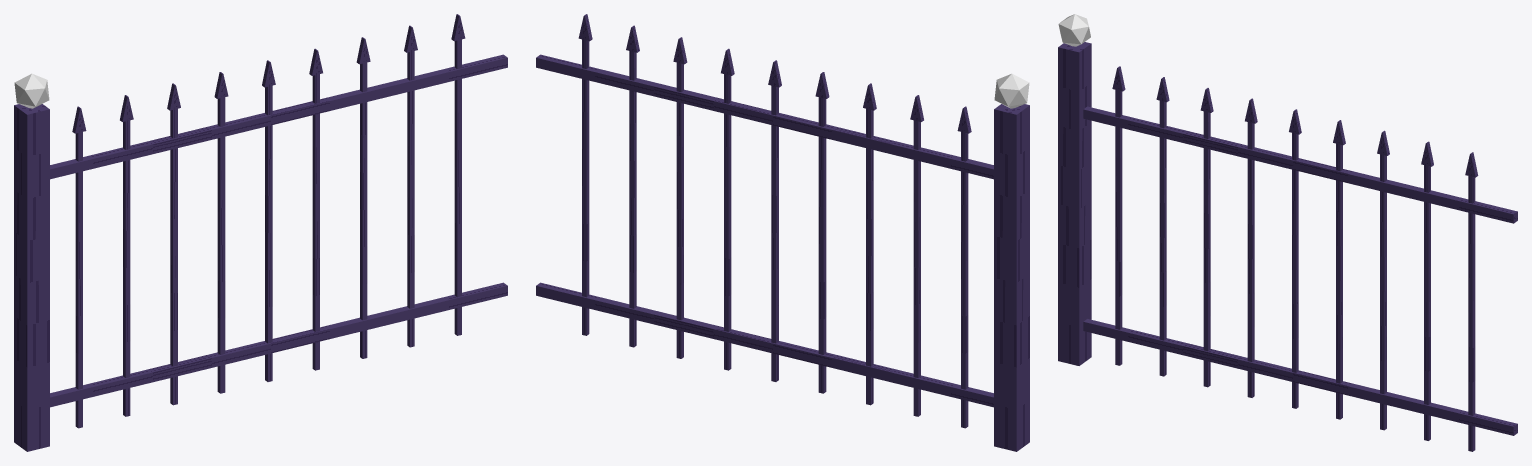
File: Iron Fence.fbx
3 renders of one model, left to right at view 1: azimuth 30°, elevation 25°; view 2: azimuth 150°, elevation 25°; view 3: azimuth 330°, elevation 25°, orthographic. The views are drawn at different scales.
Visible parts, largest first — view 1: Iron Fence post, Iron Fence rail 0.2, Iron Fence rail 1.35, Iron Fence bar 3, Iron Fence bar 6, Iron Fence bar 1, Iron Fence bar 4, Iron Fence bar 7, Iron Fence bar 2, Iron Fence bar 0, Iron Fence bar 5, Iron Fence bar 8 (+1 smaller); view 2: Iron Fence post, Iron Fence rail 0.2, Iron Fence rail 1.35, Iron Fence bar 3, Iron Fence bar 7, Iron Fence bar 2, Iron Fence bar 1, Iron Fence bar 0, Iron Fence bar 6, Iron Fence bar 8, Iron Fence bar 4, Iron Fence bar 5 (+1 smaller); view 3: Iron Fence post, Iron Fence rail 0.2, Iron Fence rail 1.35, Iron Fence bar 2, Iron Fence bar 0, Iron Fence bar 3, Iron Fence bar 8, Iron Fence bar 1, Iron Fence bar 7, Iron Fence bar 6, Iron Fence bar 4, Iron Fence bar 5 (+1 smaller).
Boxes of the visible parts, x1,y1,x2,y2 form: Iron Fence post: (14,104,49,451); Iron Fence rail 0.2: (50,282,507,407); Iron Fence rail 1.35: (50,54,507,179); Iron Fence bar 3: (217,95,225,393); Iron Fence bar 6: (360,60,367,358); Iron Fence bar 1: (123,118,130,416); Iron Fence bar 4: (265,83,272,381); Iron Fence bar 7: (407,49,414,347); Iron Fence bar 2: (170,107,177,405); Iron Fence bar 0: (75,130,82,428); Iron Fence bar 5: (312,72,319,370); Iron Fence bar 8: (454,37,461,335); Iron Fence post: (994,104,1029,451); Iron Fence rail 0.2: (536,282,993,407); Iron Fence rail 1.35: (536,54,993,179); Iron Fence bar 3: (818,97,826,393); Iron Fence bar 7: (629,49,636,347); Iron Fence bar 2: (866,107,873,405); Iron Fence bar 1: (913,118,920,416); Iron Fence bar 0: (961,130,968,428); Iron Fence bar 6: (676,61,683,358); Iron Fence bar 8: (582,37,589,335); Iron Fence bar 4: (771,85,778,381); Iron Fence bar 5: (724,72,731,370); Iron Fence post: (1058,42,1091,365); Iron Fence rail 0.2: (1083,319,1517,435); Iron Fence rail 1.35: (1083,106,1517,223); Iron Fence bar 2: (1203,109,1210,387); Iron Fence bar 0: (1115,88,1122,365); Iron Fence bar 3: (1247,121,1254,397); Iron Fence bar 8: (1468,174,1475,451); Iron Fence bar 1: (1159,99,1166,376); Iron Fence bar 7: (1424,163,1430,440); Iron Fence bar 6: (1380,153,1386,430); Iron Fence bar 4: (1292,131,1298,408); Iron Fence bar 5: (1336,142,1342,419).
Size of the model in its own units: 2.58 by 1.87 by 0.1531.
Materials: 2 (1 with a texture image).
